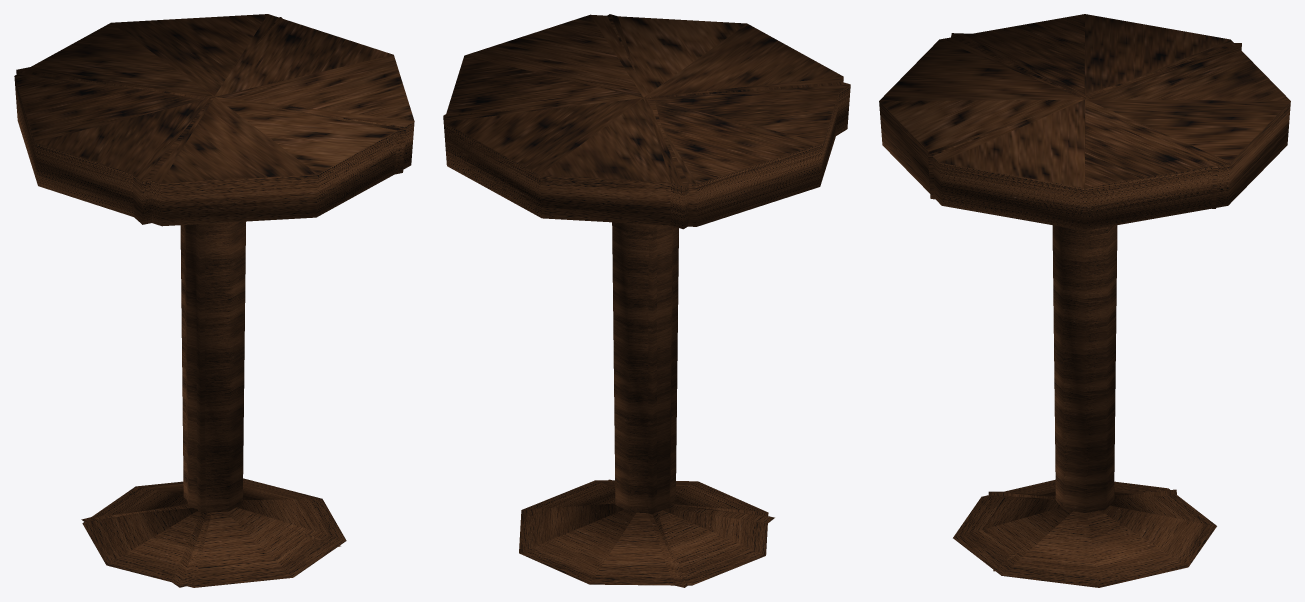
File: Tables.fbx
3 views of the same model, side by side, from view 1: azimuth 30°, elevation 25°; view 2: azimuth 150°, elevation 25°; view 3: azimuth 270°, elevation 25° (orthographic).
Parts seen in each view (by area): view 1: TableOcto, TableQuad; view 2: TableOcto, TableQuad; view 3: TableOcto, TableQuad.
Boxes of the visible parts, x1,y1,x2,y2 form: TableOcto: (14,14,414,587); TableQuad: (16,17,406,587); TableOcto: (443,14,843,585); TableQuad: (443,14,850,587); TableOcto: (879,14,1290,587); TableQuad: (928,33,1241,571).
Bounding box in the file's own units: 68.66 × 79.58 × 68.66.
1 material, 1 textured.
